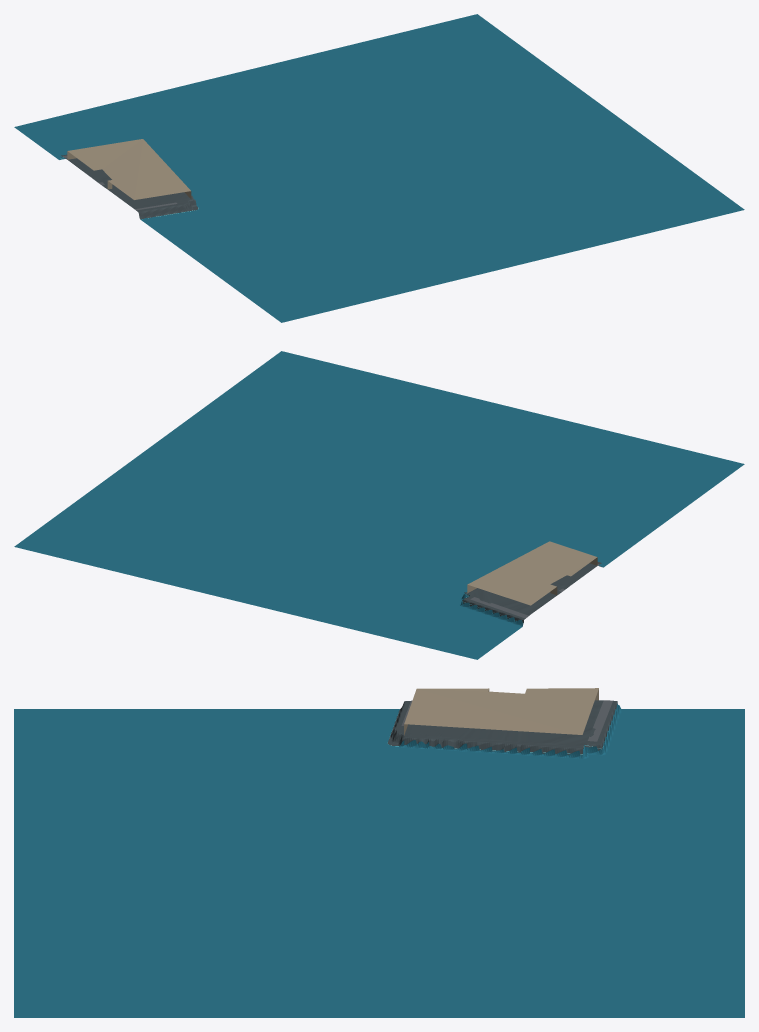
File: epsg26910-1443-10888.lod0.glb
The picture shows the model from 3 angles, top to bottom: view 1: azimuth 30°, elevation 25°; view 2: azimuth 150°, elevation 25°; view 3: azimuth 270°, elevation 25°; orthographic projection. The views are drawn at different scales.
Parts seen in each view (by area): view 1: epsg26910-1443-10888-lod0; view 2: epsg26910-1443-10888-lod0; view 3: epsg26910-1443-10888-lod0.
Boxes of the visible parts, x1,y1,x2,y2 form: epsg26910-1443-10888-lod0: (14, 14, 744, 322); epsg26910-1443-10888-lod0: (14, 351, 744, 659); epsg26910-1443-10888-lod0: (14, 688, 744, 1017).
Size of the model in its own units: 384 by 12.11 by 384.
